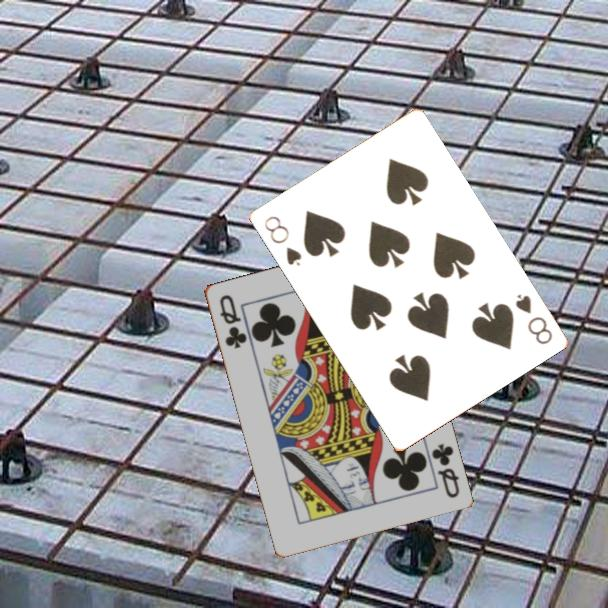c12: (428, 440, 462, 501), (216, 291, 249, 351)
s08: (260, 212, 304, 269), (511, 290, 555, 347)
